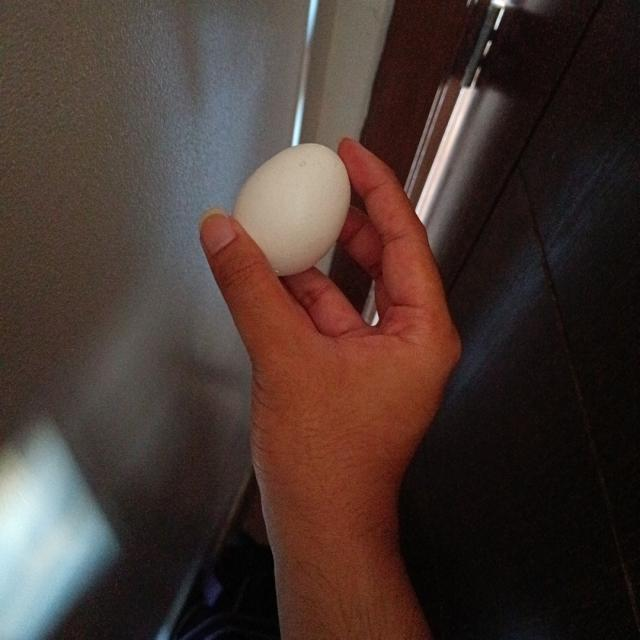egg: (236, 142, 352, 272)
